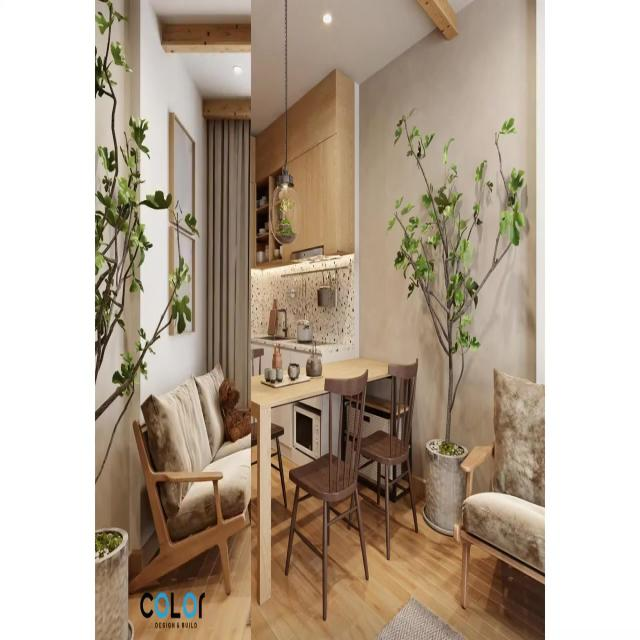obstacle: (250, 356, 394, 606), (128, 362, 252, 596), (281, 371, 372, 622), (452, 367, 544, 612), (344, 357, 418, 560)
